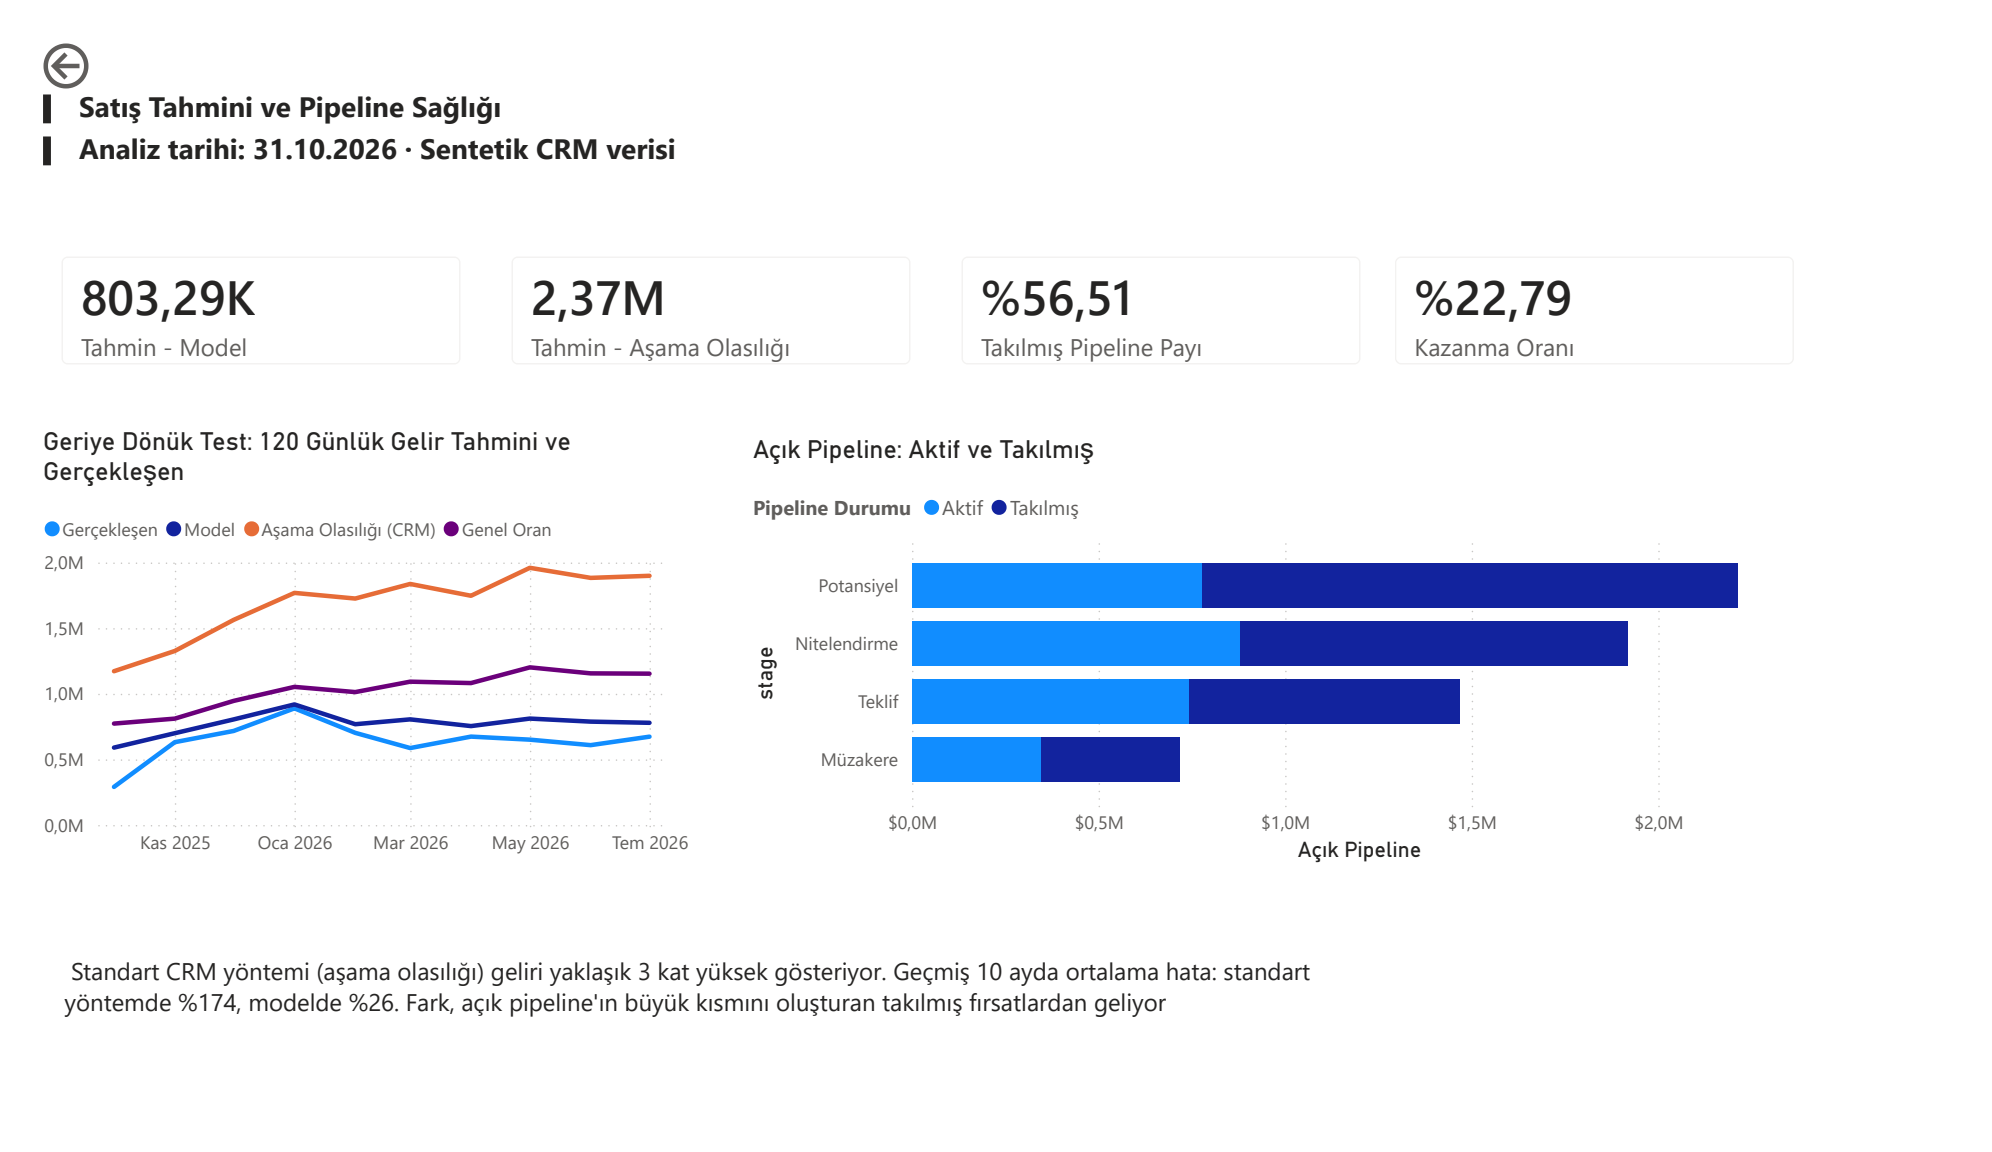

This screenshot's page, from the dashboard's own definition file:
{"tool":"powerbi","page":{"name":"Yönetici Özeti","canvas":[1280,720],"ordinal":0},"visuals":[{"type":"cardVisual","fields":{"Data":["ölçüler.Tahmin - Model"]},"box":[0,130,300,106],"z":0},{"type":"cardVisual","fields":{"Data":["ölçüler.Tahmin - Aşama Olasılığı"]},"box":[300,130,300,106],"z":1000},{"type":"textbox","box":[0,28.6,440,101.4],"z":2000},{"type":"cardVisual","fields":{"Data":["ölçüler.Takılmış Pipeline Payı"]},"box":[600,130,300,106],"z":3000},{"type":"cardVisual","fields":{"Data":["ölçüler.Kazanma Oranı"]},"box":[888.6,130,300,106],"z":4000},{"type":"lineChart","title":"Geriye Dönük Test: 120 Günlük Gelir Tahmini ve Gerçekleşen","fields":{"Y":["Sum(fact_backtest.actual)","Sum(fact_backtest.model)","Sum(fact_backtest.stage)","Sum(fact_backtest.naive)"],"Category":["fact_backtest.cutoff"]},"box":[0,260,440,295.7],"z":5000},{"type":"barChart","title":"Açık Pipeline: Aktif ve Takılmış","fields":{"Category":["fact_opportunity.stage"],"Y":["ölçüler.Açık Pipeline"],"Series":["fact_opportunity.Pipeline Durumu"]},"box":[472.9,264.3,730,291.4],"z":6000},{"type":"textbox","box":[14.3,607.1,885.7,65.7],"z":7000},{"type":"actionButton","box":[0,0,100,40],"z":8000}]}

Visuals, with their boxes in screenshot pixels (x1, y1, x2, y2), scaled from the page's 1280x720 canvas onto the 1992x1152 screenshot:
cardVisual - ölçüler.Tahmin - Model: bbox=(0, 208, 467, 378)
cardVisual - ölçüler.Tahmin - Aşama Olasılığı: bbox=(467, 208, 934, 378)
textbox: bbox=(0, 46, 685, 208)
cardVisual - ölçüler.Takılmış Pipeline Payı: bbox=(934, 208, 1401, 378)
cardVisual - ölçüler.Kazanma Oranı: bbox=(1383, 208, 1850, 378)
"Geriye Dönük Test: 120 Günlük Gelir Tahmini ve Gerçekleşen" lineChart: bbox=(0, 416, 685, 889)
"Açık Pipeline: Aktif ve Takılmış" barChart: bbox=(736, 423, 1872, 889)
textbox: bbox=(22, 971, 1401, 1076)
actionButton: bbox=(0, 0, 156, 64)
